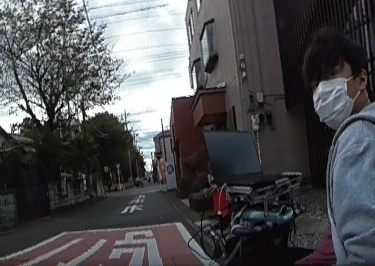person: (280, 32, 375, 266)
